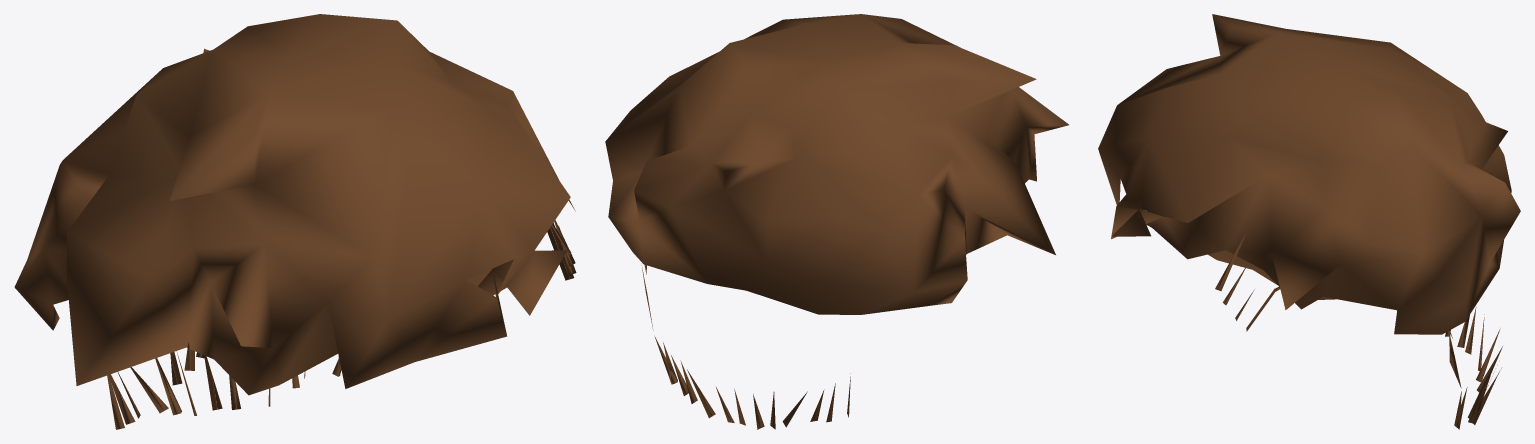
The model's file is short-fringe.glb.
The picture shows the model from 3 angles, left to right: view 1: azimuth 30°, elevation 25°; view 2: azimuth 150°, elevation 25°; view 3: azimuth 270°, elevation 25°; orthographic projection. The views are drawn at different scales.
Visible parts, largest first — view 1: Hair, HairPulledRootStrands; view 2: Hair, HairPulledRootStrands; view 3: Hair, HairPulledRootStrands.
Part boxes in pixels (x1,y1,x2,y2): Hair: (14, 14, 575, 395); HairPulledRootStrands: (107, 220, 576, 429); Hair: (605, 14, 1068, 314); HairPulledRootStrands: (641, 265, 850, 429); Hair: (1098, 14, 1520, 334); HairPulledRootStrands: (1215, 235, 1502, 429).
Size of the model in its own units: 0.4949 by 0.4039 by 0.4507.
